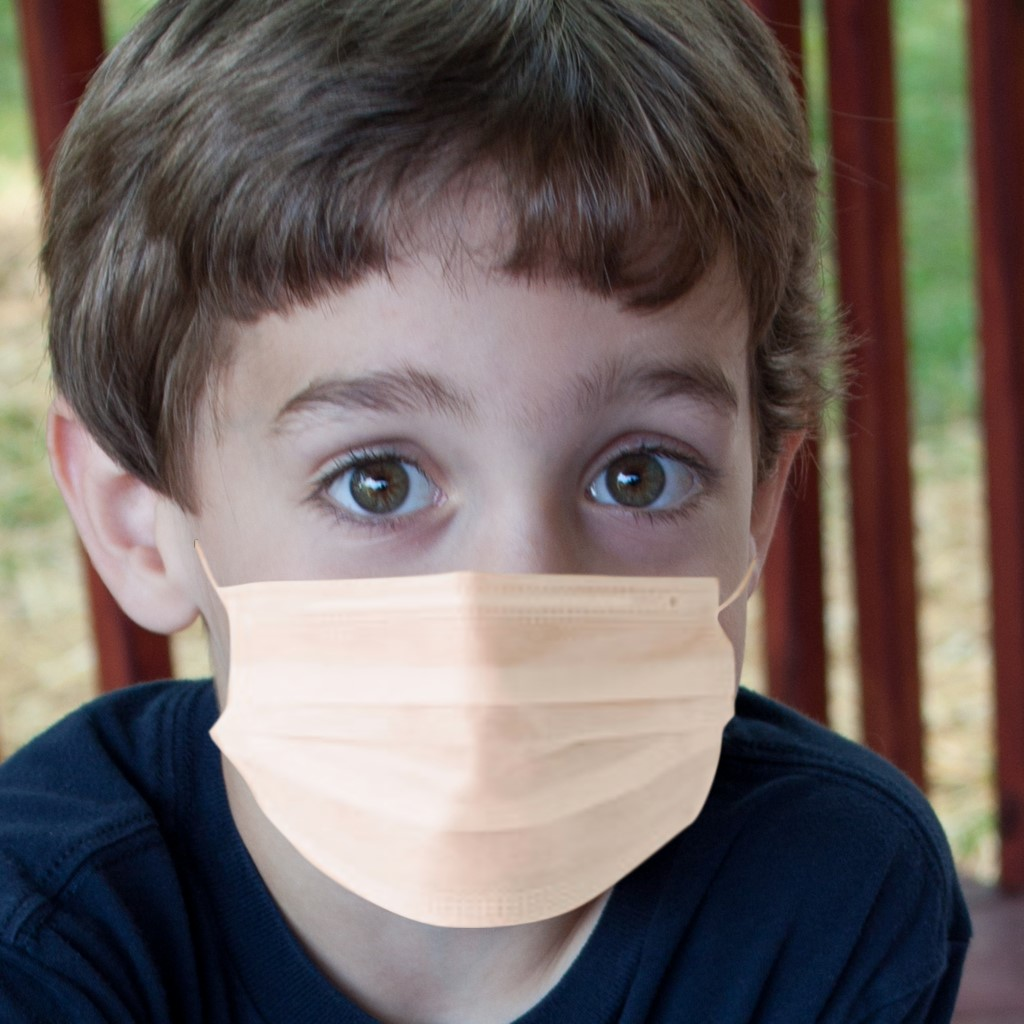con_mascara: (161, 171, 764, 920)
